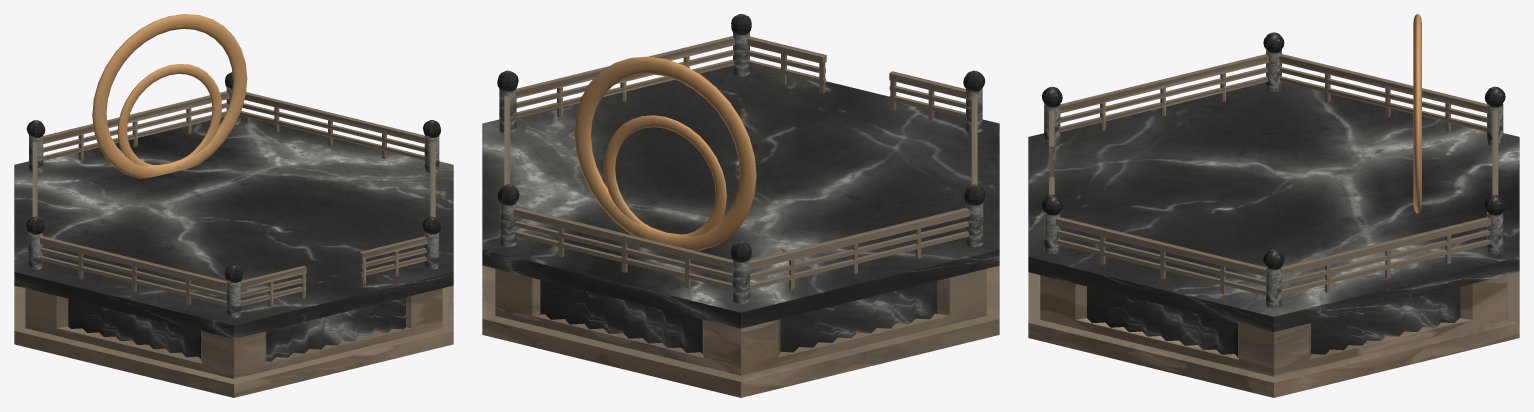
File: butudan.fbx
3 views of the same model, side by side, from view 1: azimuth 30°, elevation 25°; view 2: azimuth 150°, elevation 25°; view 3: azimuth 270°, elevation 25° (orthographic). The views are drawn at different scales.
Parts seen in each view (by area): view 1: butudan; view 2: butudan; view 3: butudan.
Boxes of the visible parts, x1,y1,x2,y2 form: butudan: [14, 14, 453, 397]; butudan: [482, 14, 999, 397]; butudan: [1028, 14, 1519, 397].
Size of the model in its own units: 13.5 by 6.69 by 11.69.
Materials: 1 (1 with a texture image).
